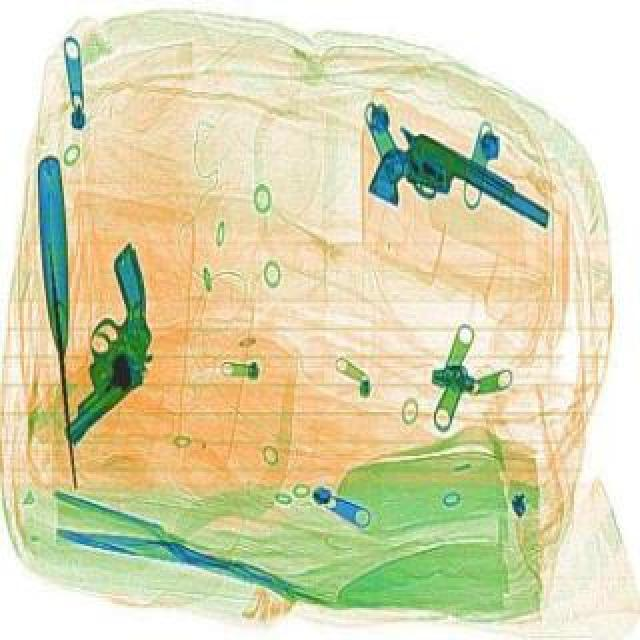gun: (0, 236, 212, 432), (358, 118, 558, 270)
knife: (30, 150, 90, 482)
